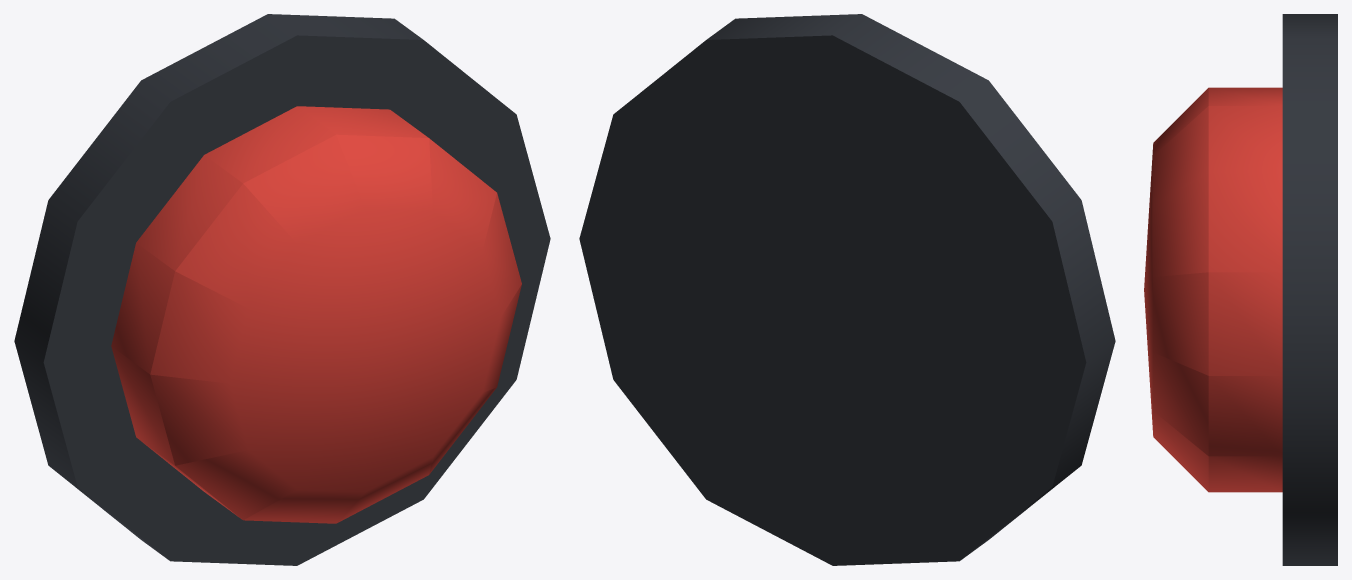
Rendered from BotonRojo.fbx.
The picture shows the model from 3 angles, left to right: view 1: azimuth 30°, elevation 25°; view 2: azimuth 150°, elevation 25°; view 3: azimuth 270°, elevation 25°; orthographic projection. The views are drawn at different scales.
Visible parts, largest first — view 1: BotonRojo; view 2: BotonRojo; view 3: BotonRojo.
Boxes of the visible parts, left/top/right/bottom form: BotonRojo: left=14, top=14, right=550, bottom=565; BotonRojo: left=579, top=14, right=1115, bottom=565; BotonRojo: left=1144, top=14, right=1337, bottom=565.
Bounding box in the file's own units: 0.6 × 0.6 × 0.21.
1 material, 1 textured.
